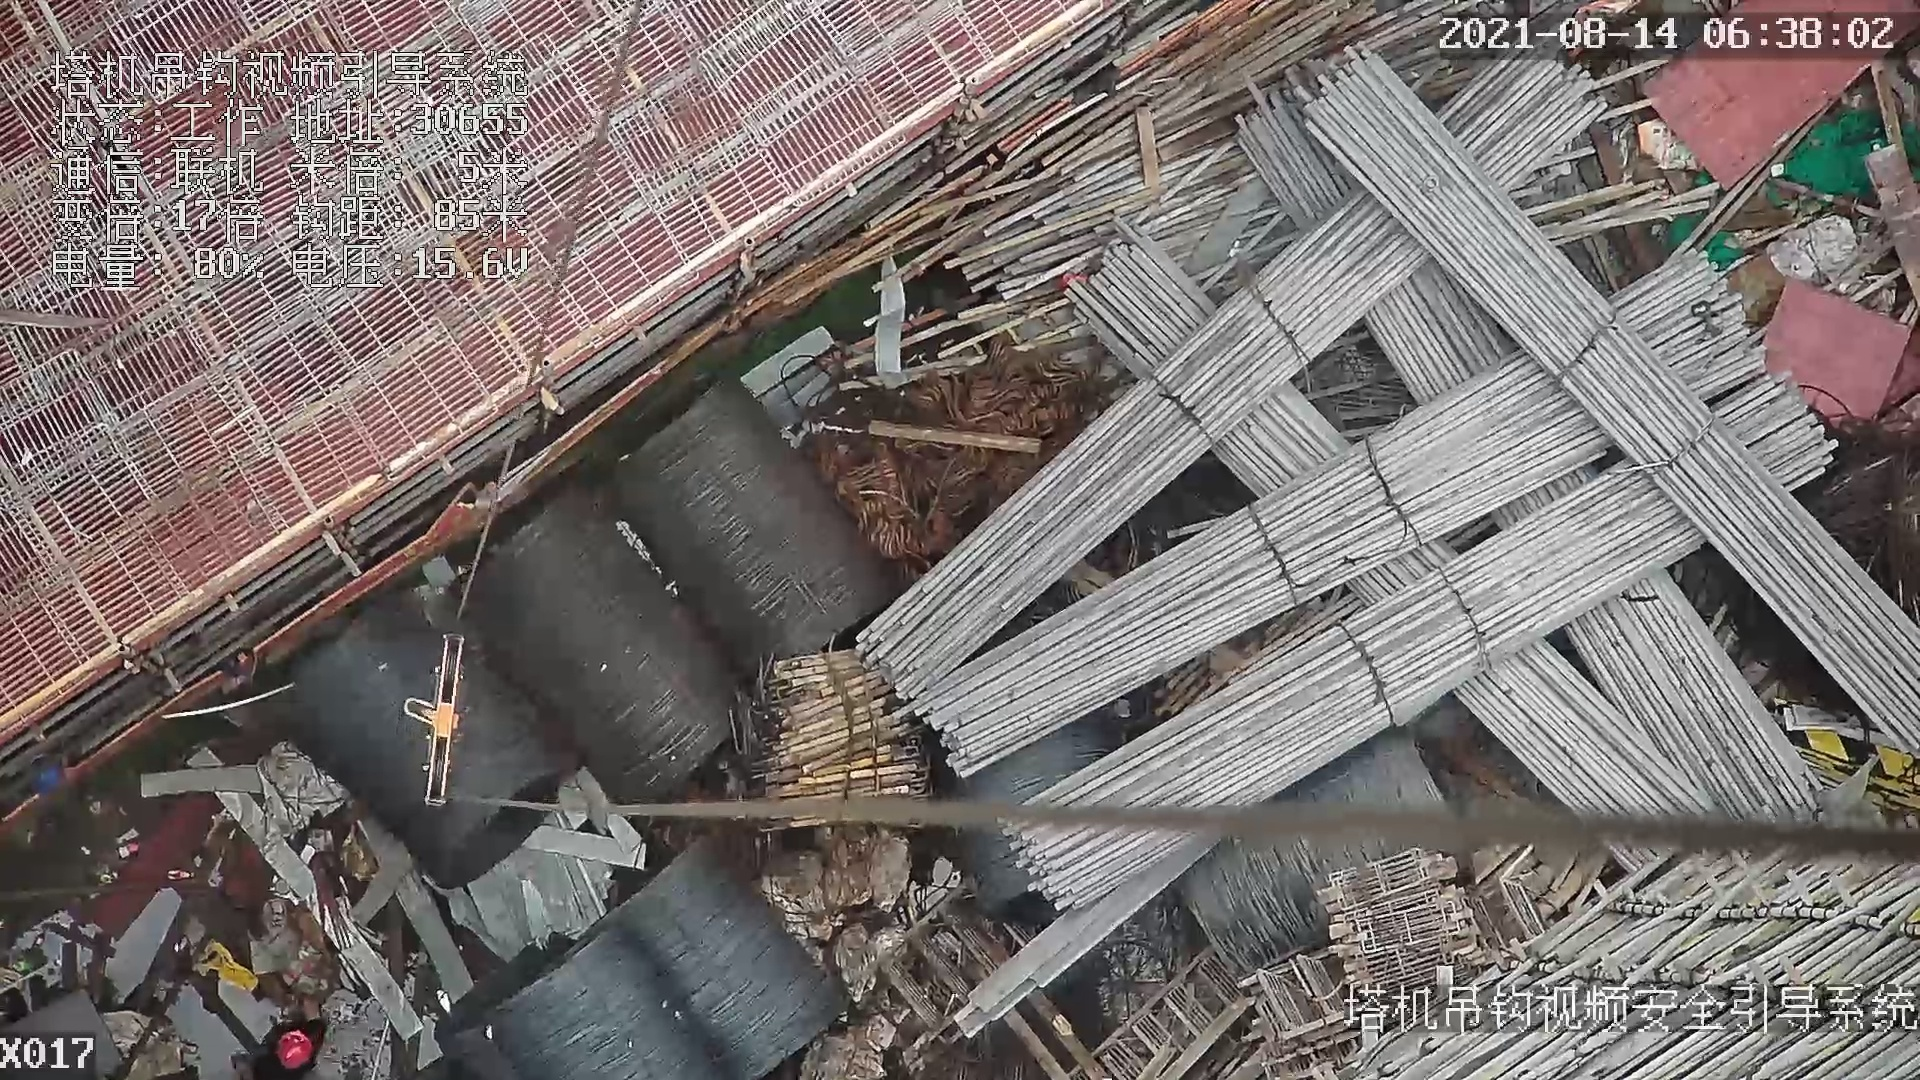helmet: (268, 1028, 319, 1073)
hook: (401, 632, 469, 808)
person: (237, 991, 335, 1080)
scaffold: (950, 58, 1915, 864), (732, 619, 945, 830)
